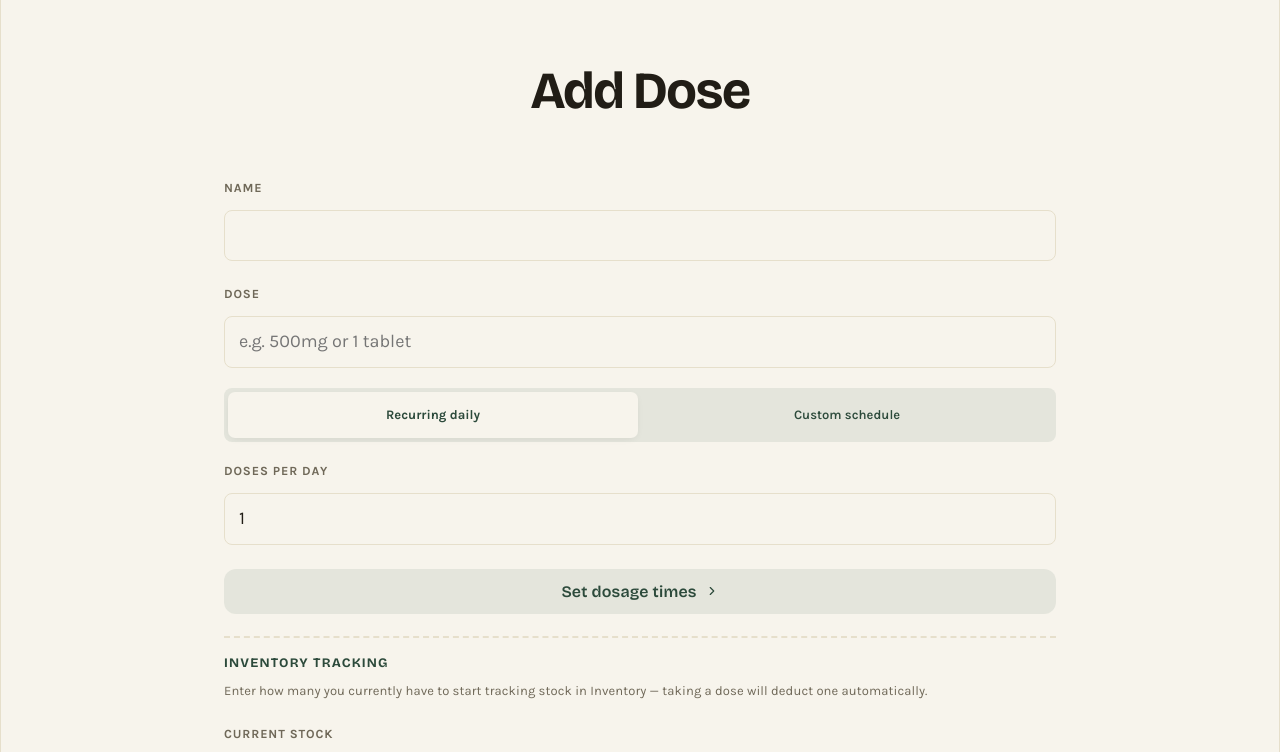
DoseForm — schedule type toggle › shows the recurring fields by default and switches to the custom schedule editor
Expected: the number field labelled "Doses per day" is shown, x1=224 y1=493 x2=1056 y2=545
Expected: the button "add schedule entry" is not shown
Click the button "Custom schedule" at (847, 415), box x1=642 y1=392 x2=1052 y2=438
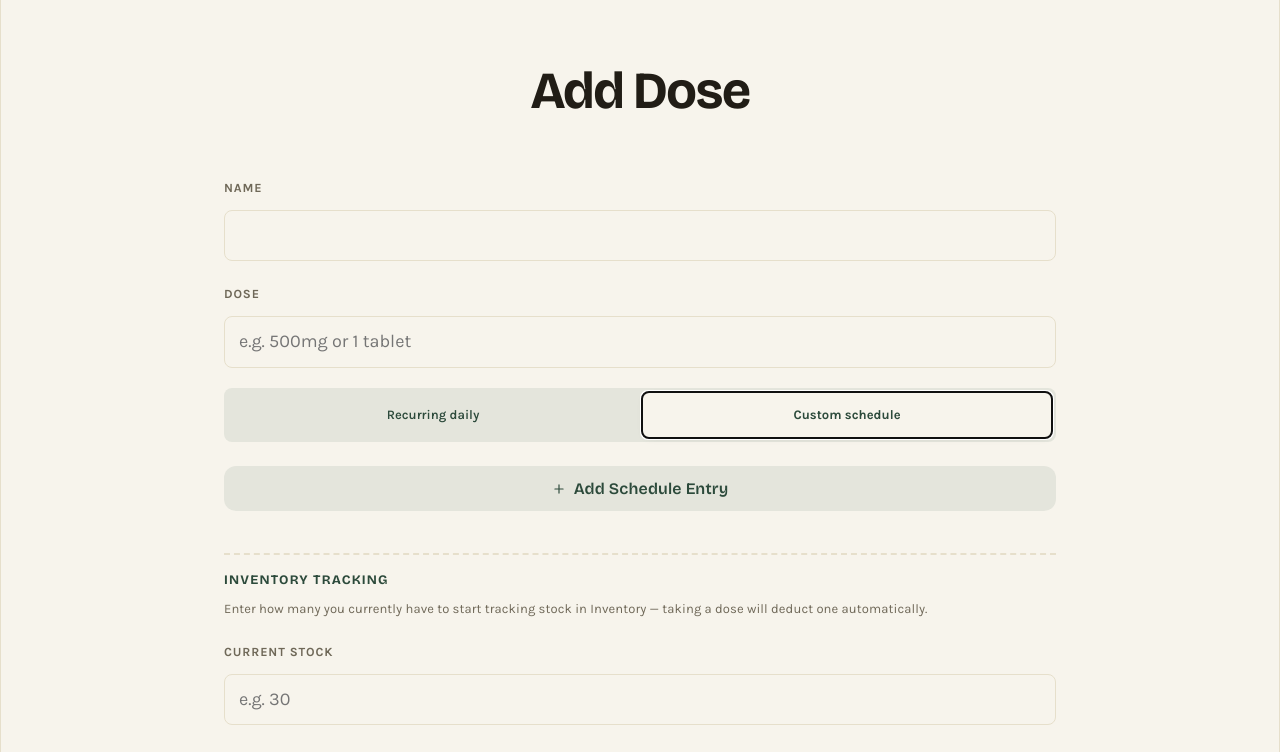
Result: the label labelled "Doses per day" is gone
Result: the button "Add Schedule Entry" is shown at x1=224 y1=466 x2=1056 y2=511
